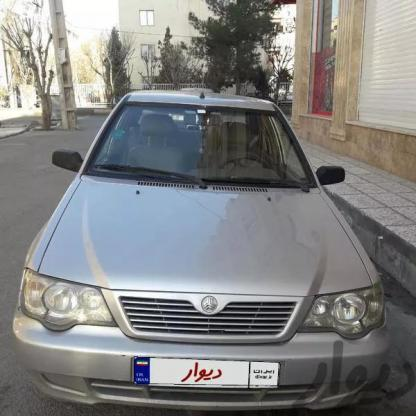Car: (8, 82, 398, 413)
